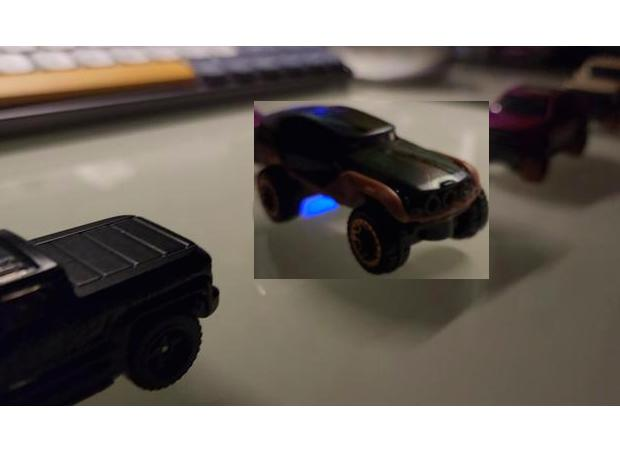toy-car: (0, 214, 222, 406), (254, 101, 489, 279)
